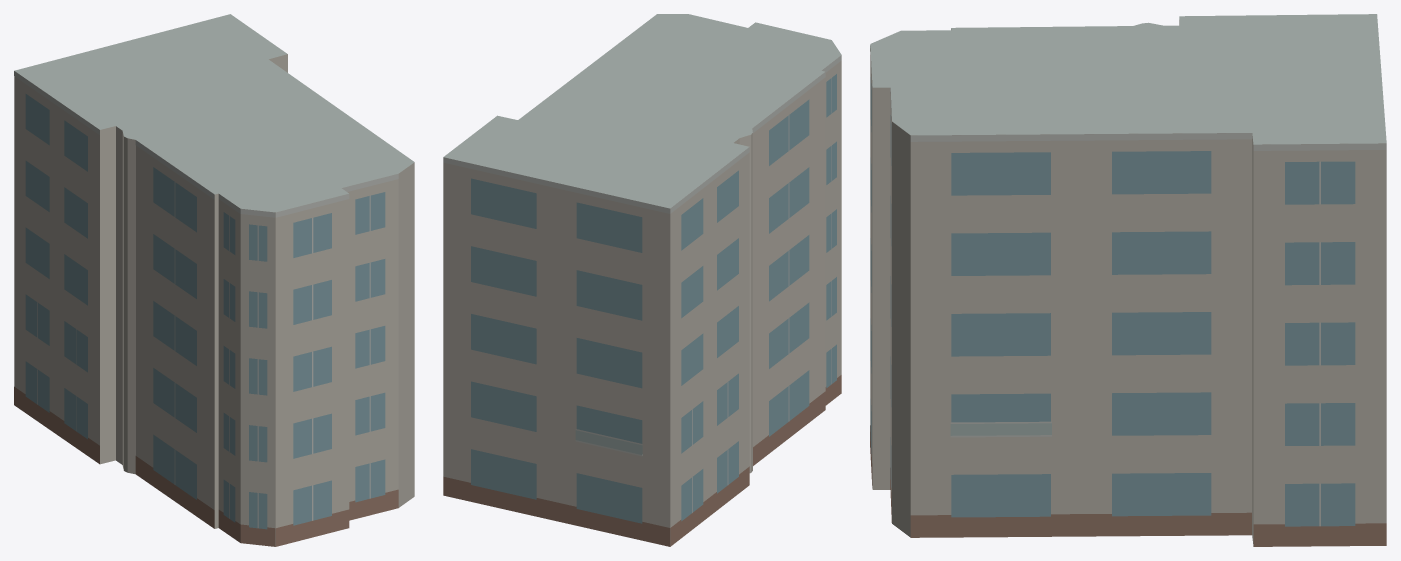
The model's file is survey-upis-32549446.glb.
3 renders of one model, left to right at view 1: azimuth 30°, elevation 25°; view 2: azimuth 150°, elevation 25°; view 3: azimuth 270°, elevation 25°, orthographic. The views are drawn at different scales.
Visible parts, largest first — view 1: survey-upis-32549446.tmp; view 2: survey-upis-32549446.tmp; view 3: survey-upis-32549446.tmp.
Part boxes in pixels (x1=…): survey-upis-32549446.tmp: x1=14, y1=14, x2=414, y2=546; survey-upis-32549446.tmp: x1=443, y1=14, x2=841, y2=546; survey-upis-32549446.tmp: x1=870, y1=14, x2=1386, y2=546.
Bounding box in the file's own units: 10.61 × 15.24 × 17.74.
